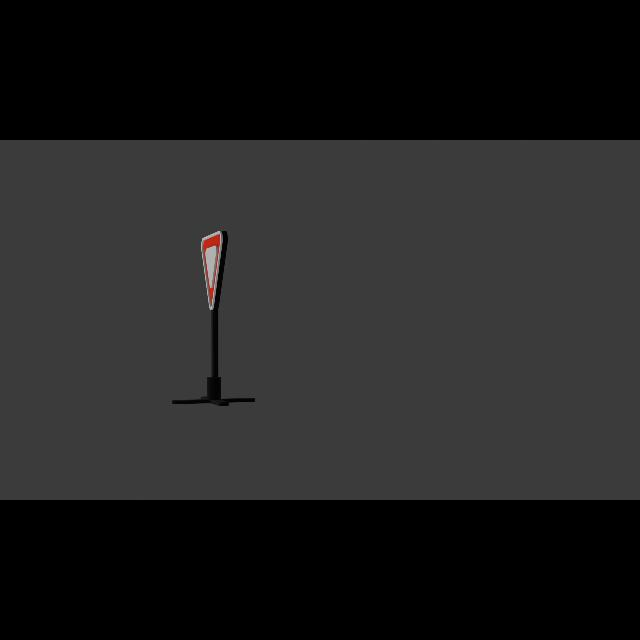sign_yield: (202, 231, 225, 311)
